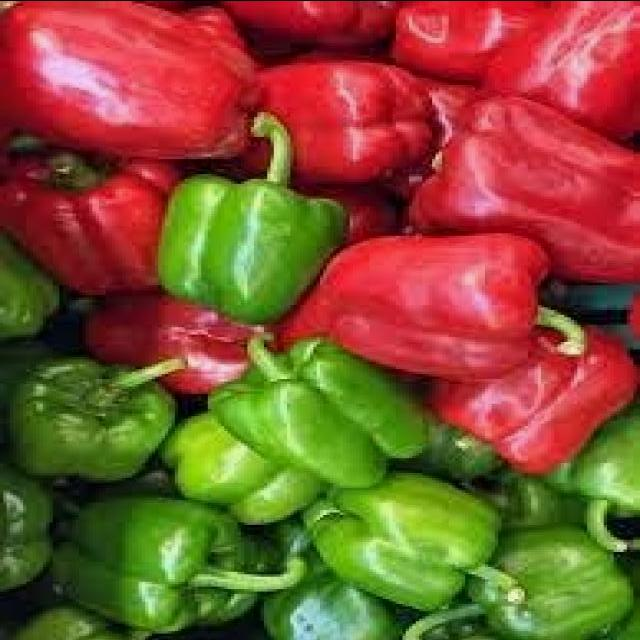bell_pepper: (398, 93, 640, 279), (156, 110, 350, 334), (50, 489, 308, 639), (211, 325, 435, 496), (304, 231, 586, 365), (311, 467, 543, 623), (9, 347, 195, 490)
